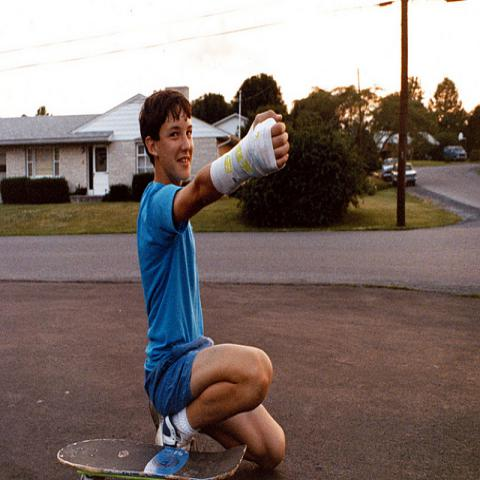car: (391, 162, 418, 186), (444, 146, 468, 162), (382, 158, 397, 180)
